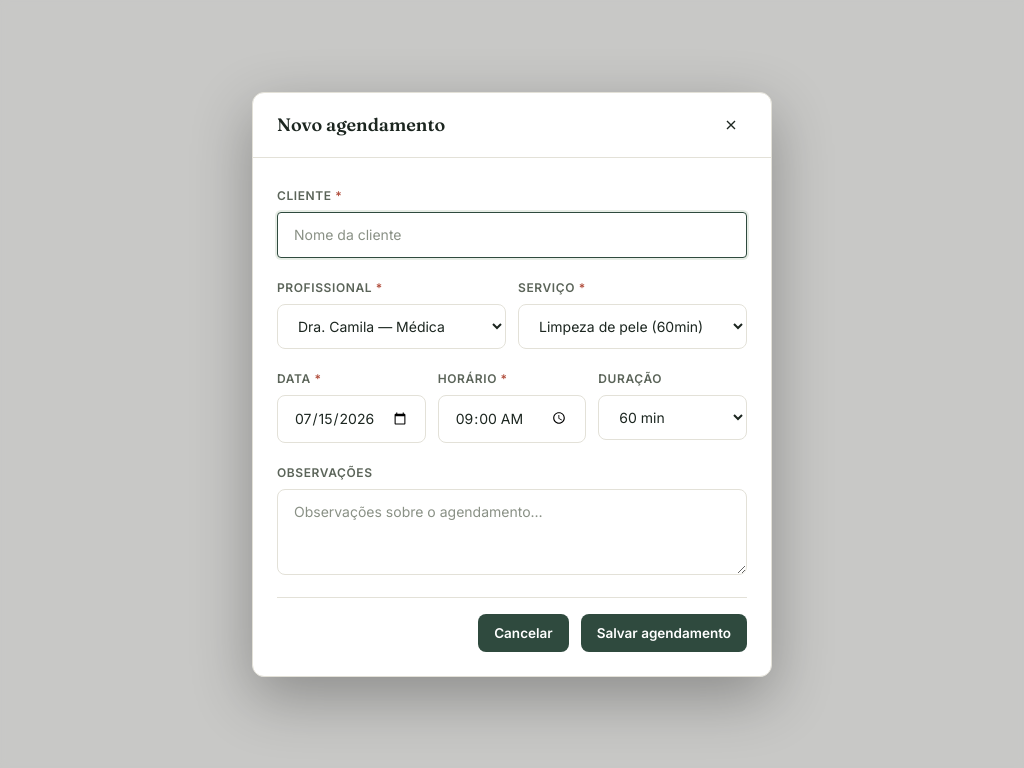
AgendamentoModal › deve mostrar toast de erro ao submeter sem cliente
This screenshot has width=1024, height=768.
What coordinates should you click on to do the following:
click the button "Salvar agendamento"
I would click on:
 (664, 632)
Its box is [581,614,747,652].
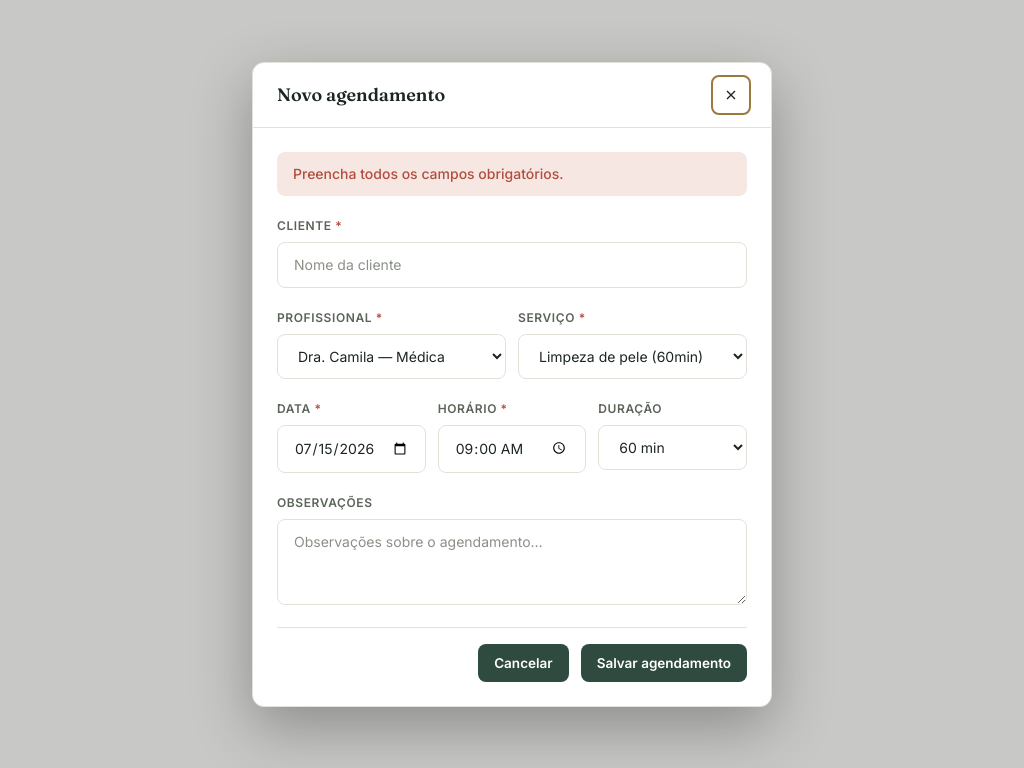
expect the text "Preencha todos os campos obrigatórios." is shown: met, box [277,152,747,196]
